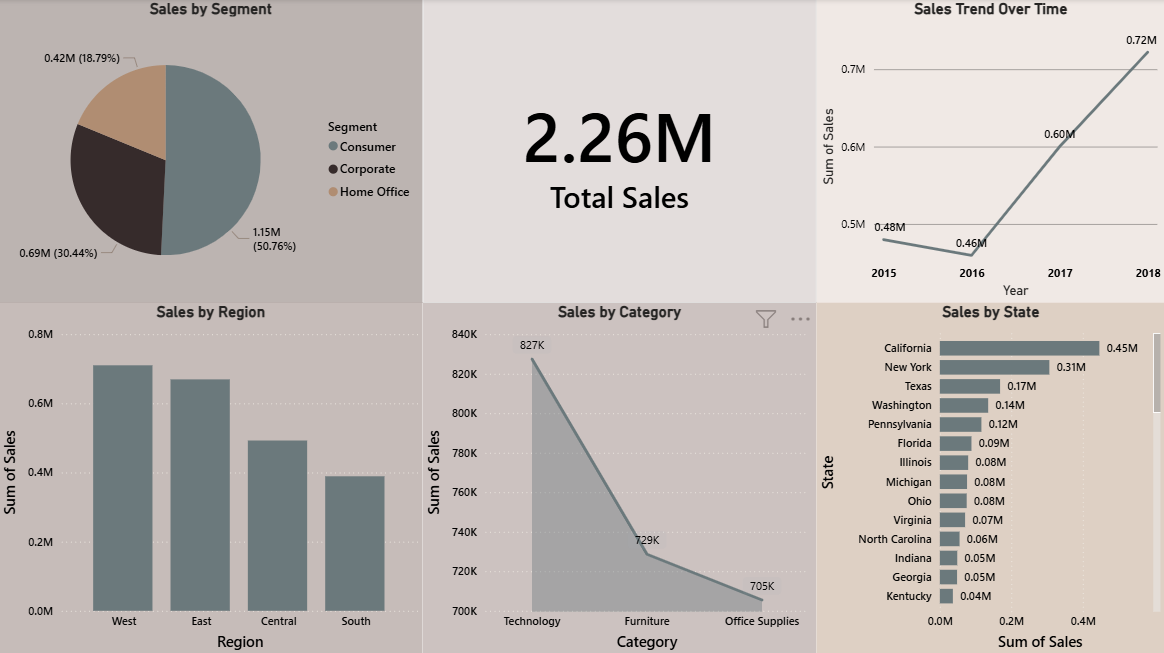

Layout of this report page (visuals, bound fields, positions):
{"tool":"powerbi","page":{"name":"Page 1","canvas":[1280,720],"ordinal":0},"visuals":[{"type":"card","fields":{"Values":["Sum(train.Sales)"]},"box":[465.2,0,432.2,333.4],"z":0},{"type":"clusteredColumnChart","title":" Sales by Region","fields":{"Category":["train.Region"],"Y":["Sum(train.Sales)"]},"box":[0,333.4,465.2,387],"z":1000},{"type":"areaChart","title":"Sales by Category","fields":{"Category":["train.Category"],"Y":["Sum(train.Sales)"]},"box":[465.2,333.4,432.2,387],"z":2000},{"type":"lineChart","title":"Sales Trend Over Time","fields":{"Category":["train.Order Date.Variation.Date Hierarchy.Year","train.Order Date.Variation.Date Hierarchy.Quarter","train.Order Date.Variation.Date Hierarchy.Month","train.Order Date.Variation.Date Hierarchy.Day"],"Y":["Sum(train.Sales)"]},"box":[897.4,0,382.8,333.4],"z":3000},{"type":"barChart","title":"Sales by State","fields":{"Category":["train.State"],"Y":["Sum(train.Sales)"]},"box":[897.4,333.4,382.8,387],"z":4000},{"type":"pieChart","title":"Sales by Segment","fields":{"Category":["train.Segment"],"Y":["Sum(train.Sales)"]},"box":[0,0,465.2,333.4],"z":5000}]}

Visuals, with their boxes in screenshot pixels (x1, y1, x2, y2), scaled from the page's 1280x720 canvas onto the 1164x653 screenshot:
card - Sum(train.Sales): <box>423,0,816,302</box>
" Sales by Region" clusteredColumnChart: <box>0,302,423,652</box>
"Sales by Category" areaChart: <box>423,302,816,652</box>
"Sales Trend Over Time" lineChart: <box>816,0,1163,302</box>
"Sales by State" barChart: <box>816,302,1163,652</box>
"Sales by Segment" pieChart: <box>0,0,423,302</box>
